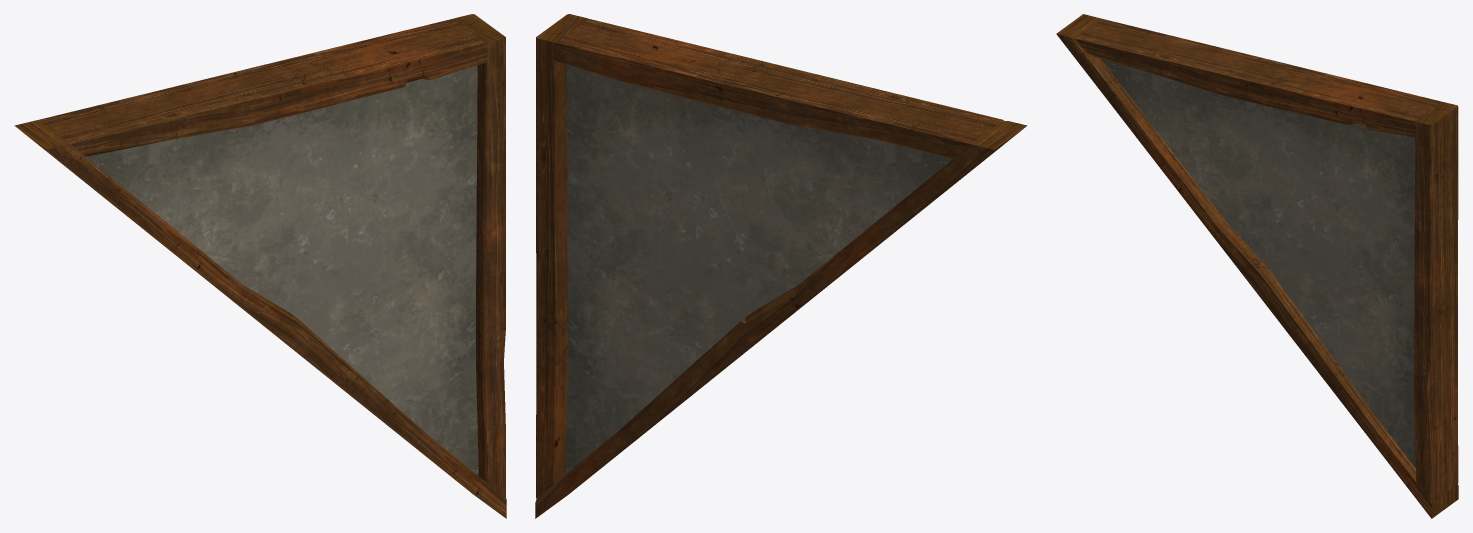
3 renders of one model, left to right at view 1: azimuth 30°, elevation 25°; view 2: azimuth 150°, elevation 25°; view 3: azimuth 330°, elevation 25°, orthographic. The views are drawn at different scales.
Parts seen in each view (by area): view 1: SM_BB_T2_Wall_Slanted_Large_Inverted_LOD0; view 2: SM_BB_T2_Wall_Slanted_Large_Inverted_LOD0; view 3: SM_BB_T2_Wall_Slanted_Large_Inverted_LOD0.
Part boxes in pixels (x1,y1,x2,y2): SM_BB_T2_Wall_Slanted_Large_Inverted_LOD0: (14, 14, 506, 518); SM_BB_T2_Wall_Slanted_Large_Inverted_LOD0: (535, 14, 1027, 518); SM_BB_T2_Wall_Slanted_Large_Inverted_LOD0: (1056, 14, 1458, 518).
Bounding box in the file's own units: 3 × 3 × 0.3774.
2 materials, 2 textured.
